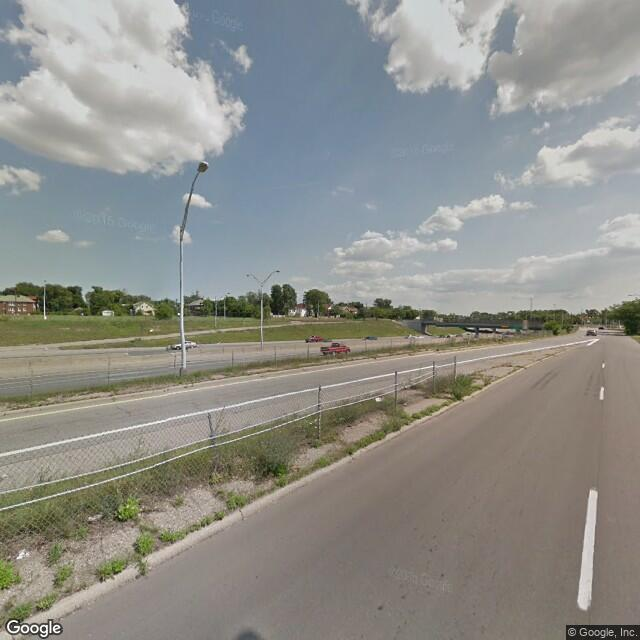litter: (86, 512, 107, 523), (14, 548, 31, 560), (374, 396, 385, 402)
